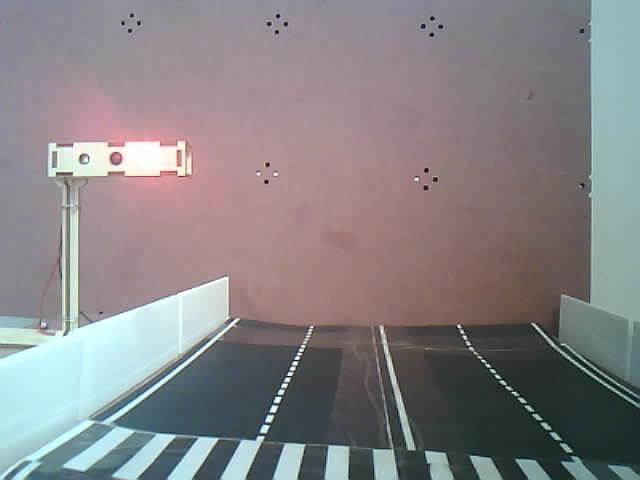crosswalk: (18, 425, 640, 479)
red: (39, 121, 224, 250)
